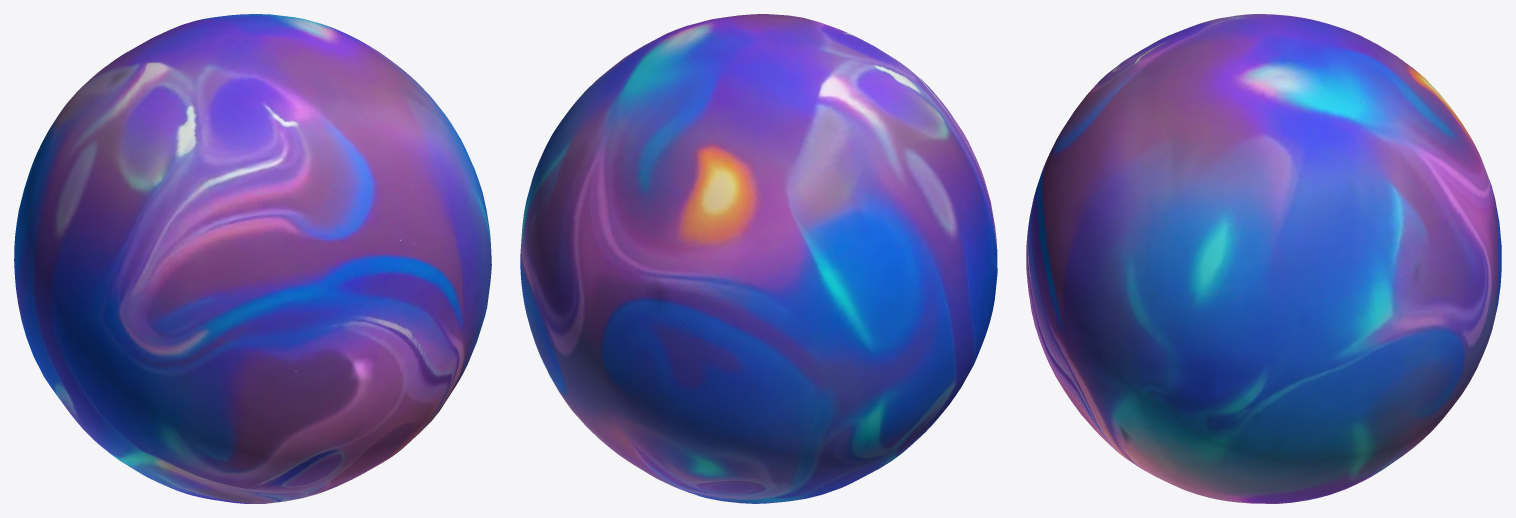
File: orb.glb
3 views of the same model, side by side, from view 1: azimuth 30°, elevation 25°; view 2: azimuth 150°, elevation 25°; view 3: azimuth 270°, elevation 25° (orthographic).
Size of the model in its own units: 1.95 by 2 by 1.94.
Materials: 1 (1 with a texture image).
